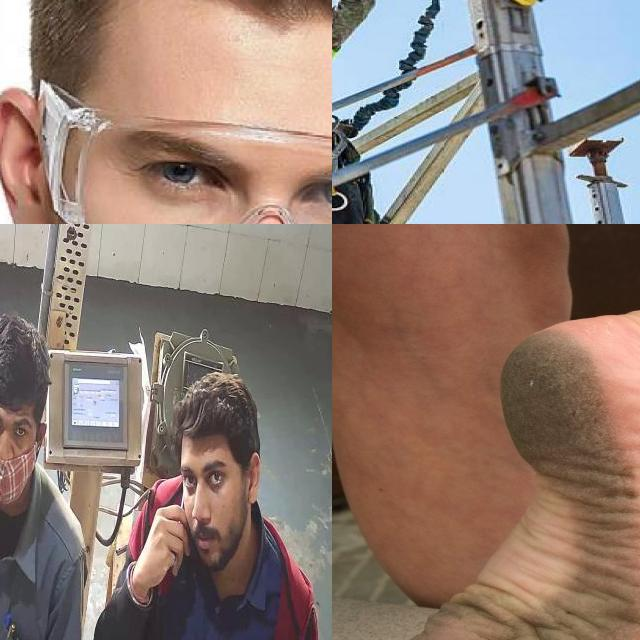Barefoots: (339, 314, 640, 640)
No_Ear-Protection: (0, 85, 59, 224), (242, 448, 267, 505)
No_Glasses: (173, 451, 240, 493), (0, 400, 37, 445)
face_mask: (37, 77, 332, 224), (0, 410, 40, 498)
face_nomask: (123, 132, 332, 224), (179, 458, 241, 555)
hand_noglove: (129, 502, 192, 590)
head_nohelmet: (170, 370, 261, 448), (0, 312, 54, 414)
person: (91, 369, 332, 640), (0, 308, 89, 640)
